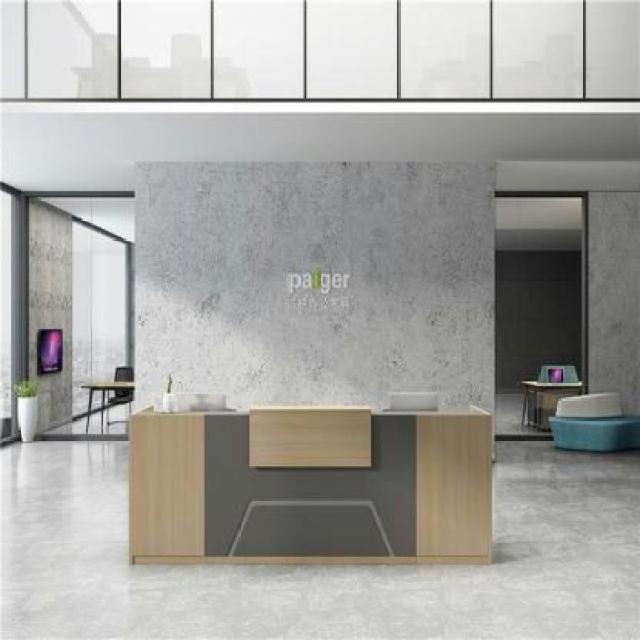frontdesk: (116, 388, 500, 574)
